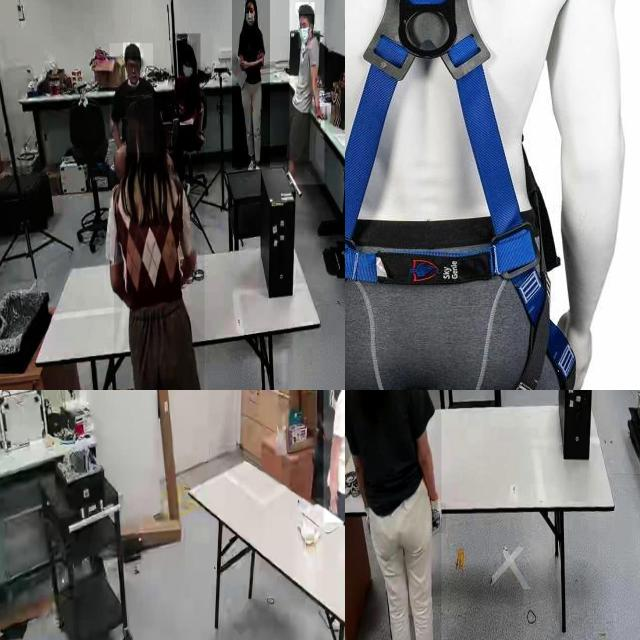Harness: (345, 0, 577, 390)
face_mask: (298, 16, 312, 50), (181, 62, 197, 83), (243, 5, 257, 27)
face_nomask: (125, 59, 140, 82)
hand_glove: (431, 503, 447, 534)
hand_noglove: (328, 487, 338, 514), (314, 106, 328, 120), (238, 57, 250, 70), (256, 47, 264, 62)
head_nohelmet: (124, 96, 163, 130), (179, 42, 197, 60), (123, 42, 141, 58), (295, 2, 315, 15), (245, 0, 256, 5)
person: (114, 95, 205, 390), (345, 390, 442, 640), (231, 0, 270, 168), (289, 0, 324, 185), (110, 43, 154, 153), (172, 33, 201, 151), (323, 390, 345, 523)
